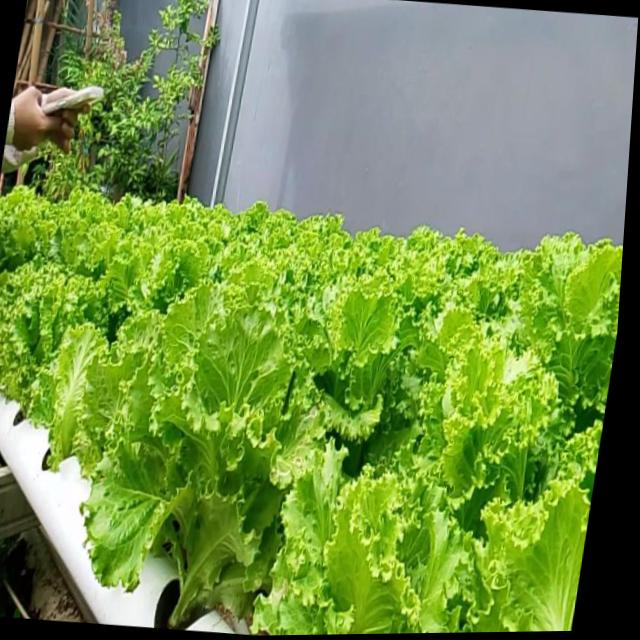Mature: (0, 190, 624, 635), (116, 318, 321, 611), (0, 234, 128, 450)
